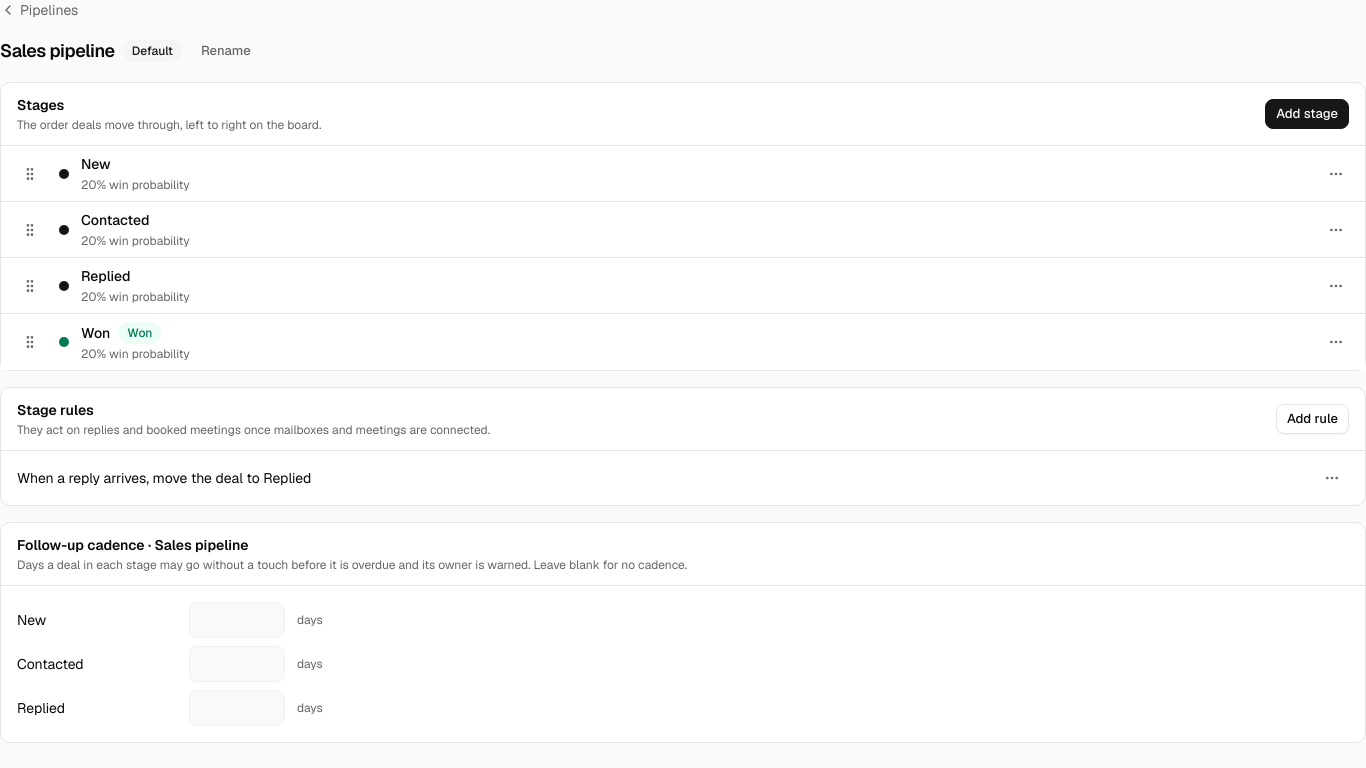
Test: FR-CRMS-9: pipeline settings › FR-CRMS-9: a refusal for another reason (a rule points at the stage) shows the server’s words, no move step
Click the button named "Actions for Replied" at {"x": 1336, "y": 286}, box [1319,268,1353,302]
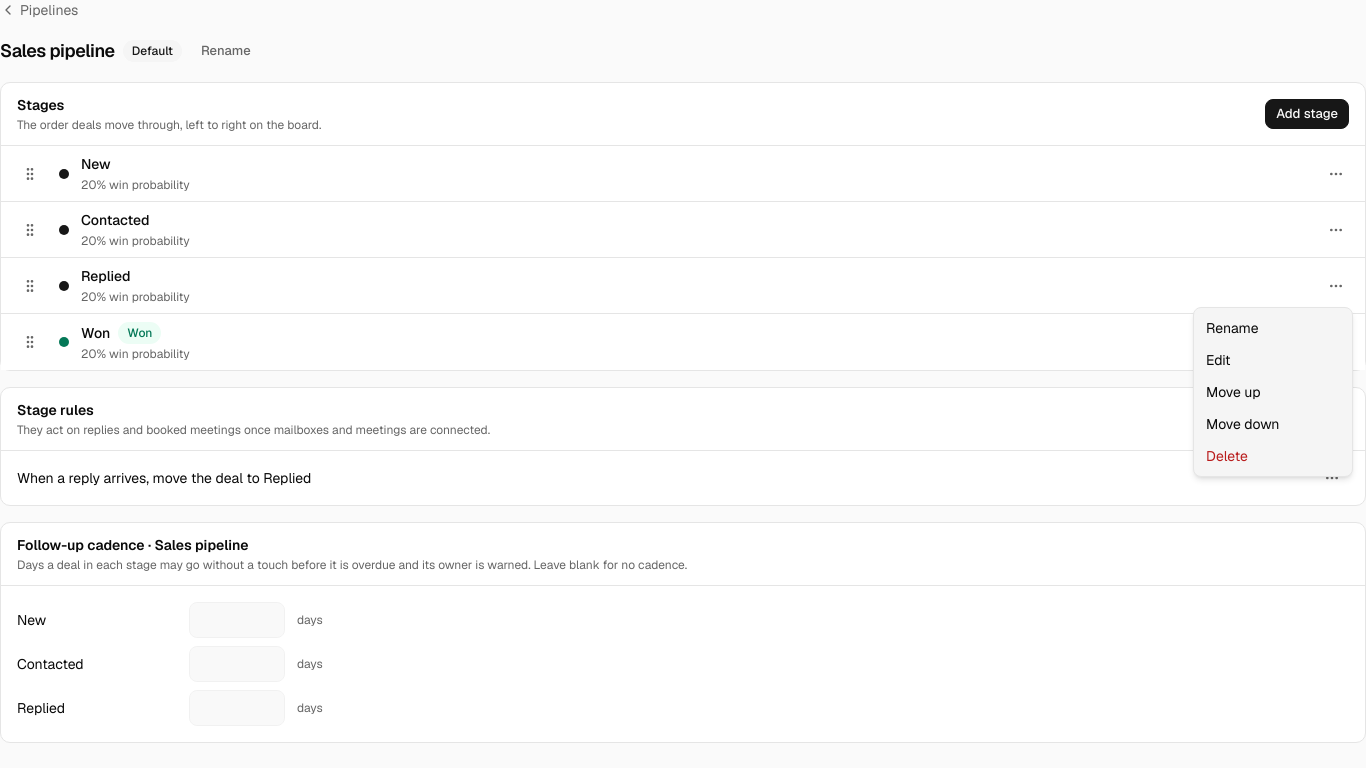
Click the menu item "Delete" at {"x": 1227, "y": 456}, box [1206,447,1248,465]
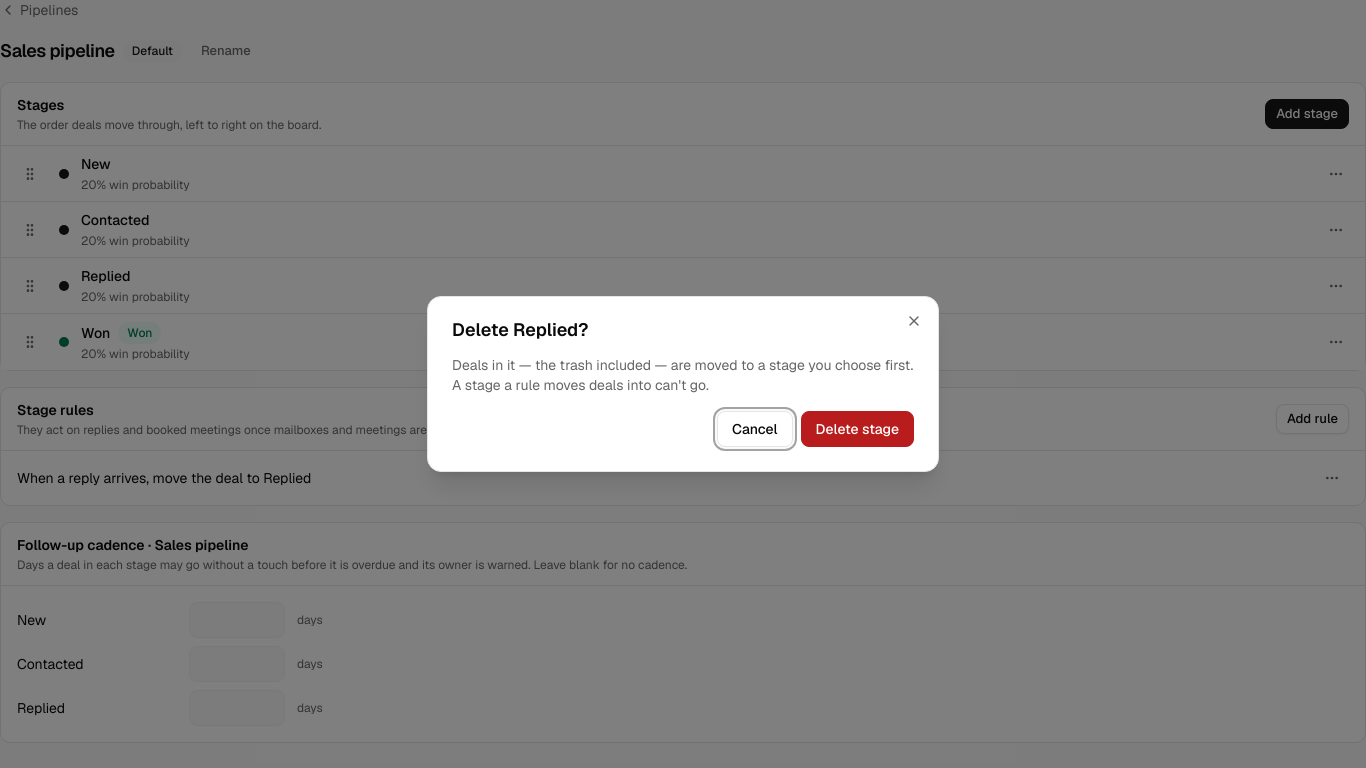
Click the button "Delete stage" at {"x": 857, "y": 429}, box [801,411,914,447]
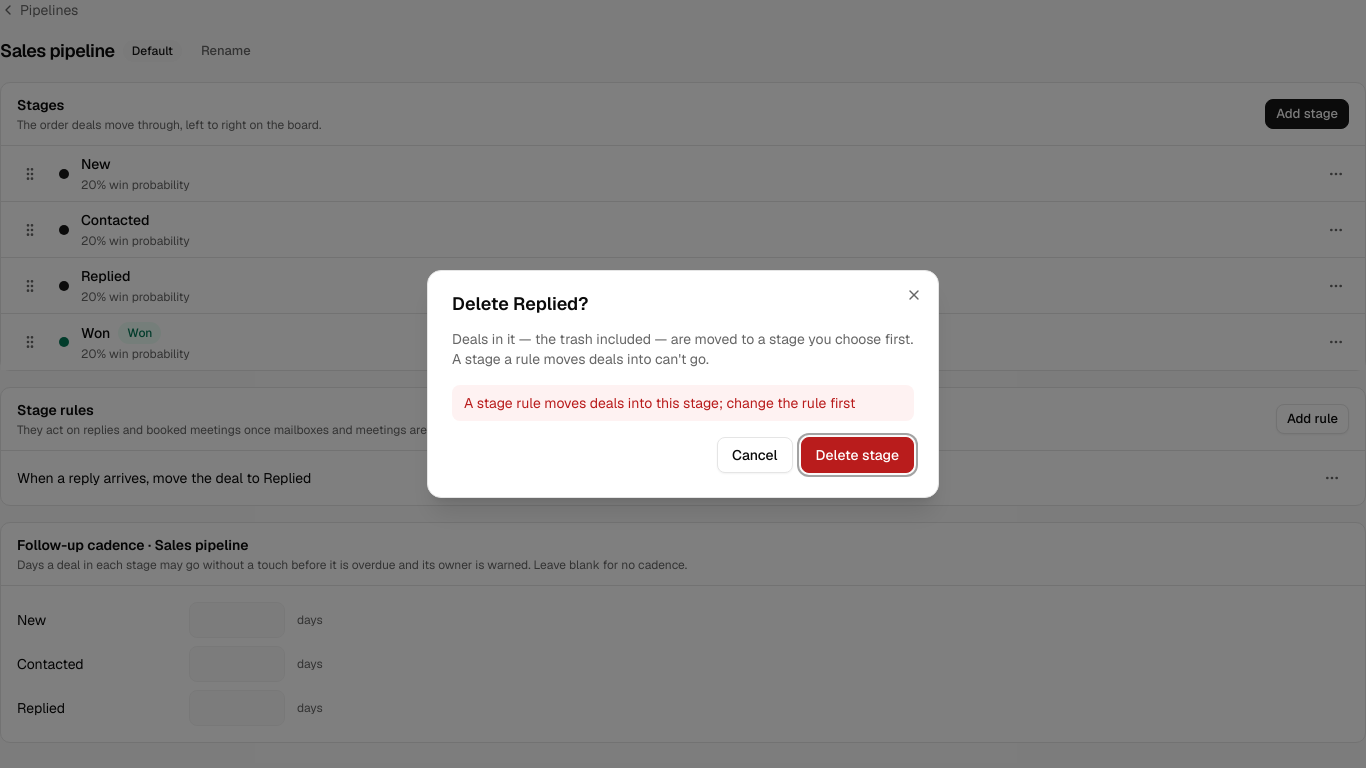
Check: the text "A stage rule moves deals into this stage; change the rule first" is shown, box [452,385,914,421]
